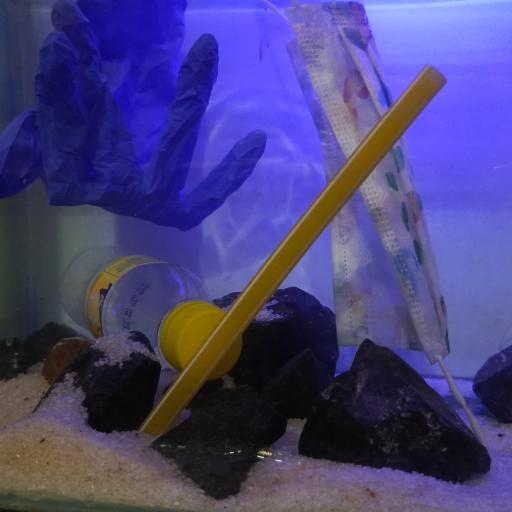bottle_cap: (170, 302, 240, 380)
glove: (0, 0, 269, 232)
mask: (266, 1, 453, 367)
plastic_bottle: (57, 242, 245, 382)
plastic_straw: (142, 64, 447, 432)
